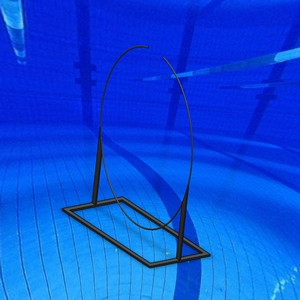circle: (61, 44, 212, 269)
